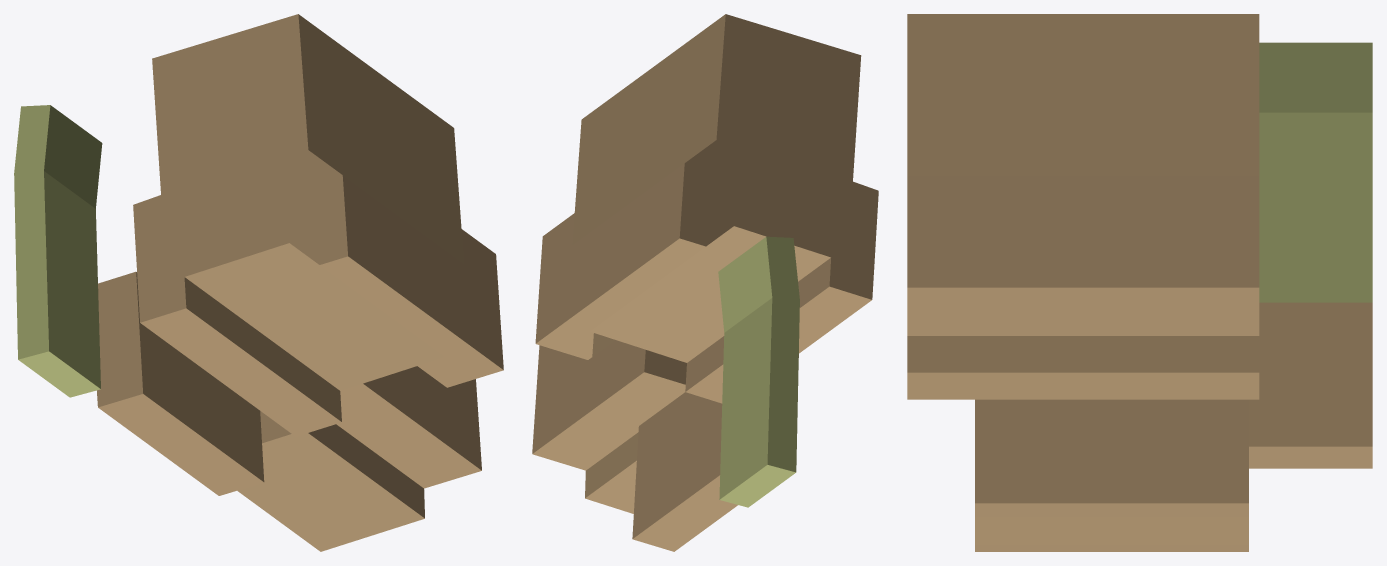
3 views of the same model, side by side, from view 1: azimuth 30°, elevation 25°; view 2: azimuth 150°, elevation 25°; view 3: azimuth 270°, elevation 25° (orthographic). The views are drawn at different scales.
Visible parts, largest first — view 1: 0_0_1_3_2_2_1_2_2; view 2: 0_0_1_3_2_2_1_2_2; view 3: 0_0_1_3_2_2_1_2_2.
Boxes of the visible parts, bbox=[...] form: 0_0_1_3_2_2_1_2_2: bbox=[14, 14, 503, 551]; 0_0_1_3_2_2_1_2_2: bbox=[532, 14, 878, 551]; 0_0_1_3_2_2_1_2_2: bbox=[907, 14, 1372, 551].
Size of the model in its own units: 29.24 by 40.25 by 35.7.
